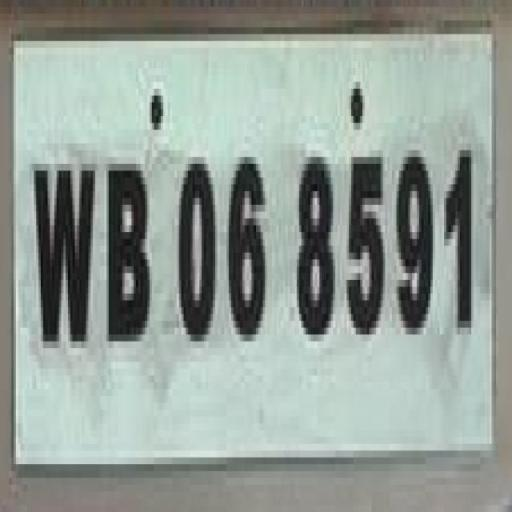number plate: (17, 40, 512, 450)
